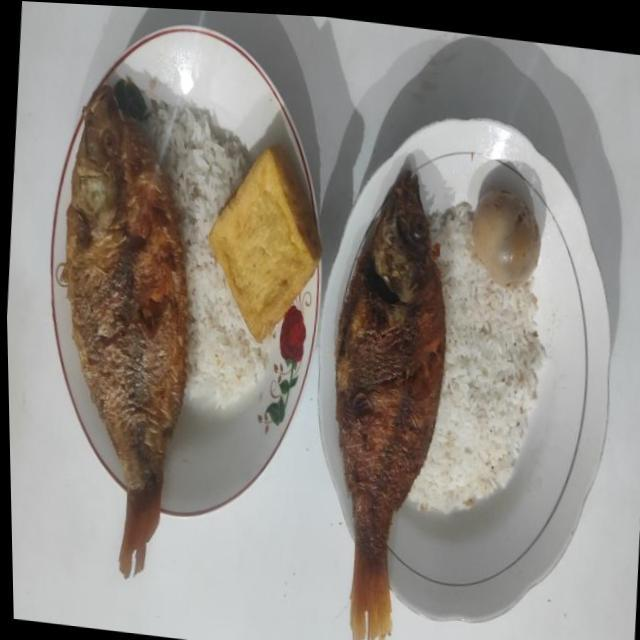ikan_mujair: (57, 83, 188, 577), (334, 171, 446, 640)
nasi_putih: (142, 78, 270, 468), (408, 203, 546, 512)
tahu_goreng: (208, 146, 322, 342)
